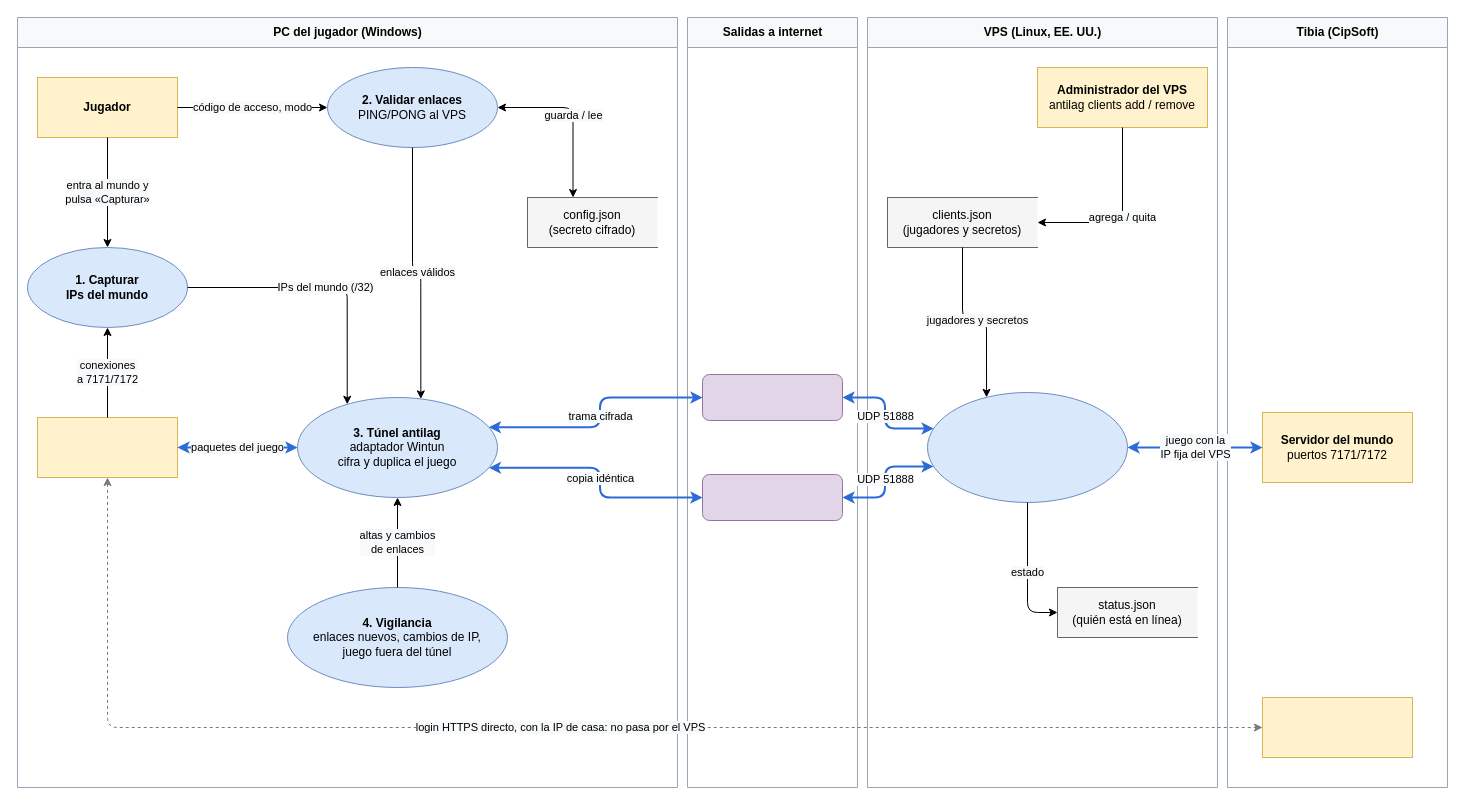
Image size: 1465x805. Some labels were removed from this diagram. Here are the shapes that lost their labels. From the top down, the centre of each, then its label:
At point 772,397: "Ethernet".
At point 107,447: "Cliente de Tibia".
At point 1027,447: "5. Servidor antilag una sesión por jugador dedup + NAT (solo juego)".
At point 772,497: "Wi-Fi / hotspot / USB".
At point 1337,727: "Login y web www.tibia.com".
